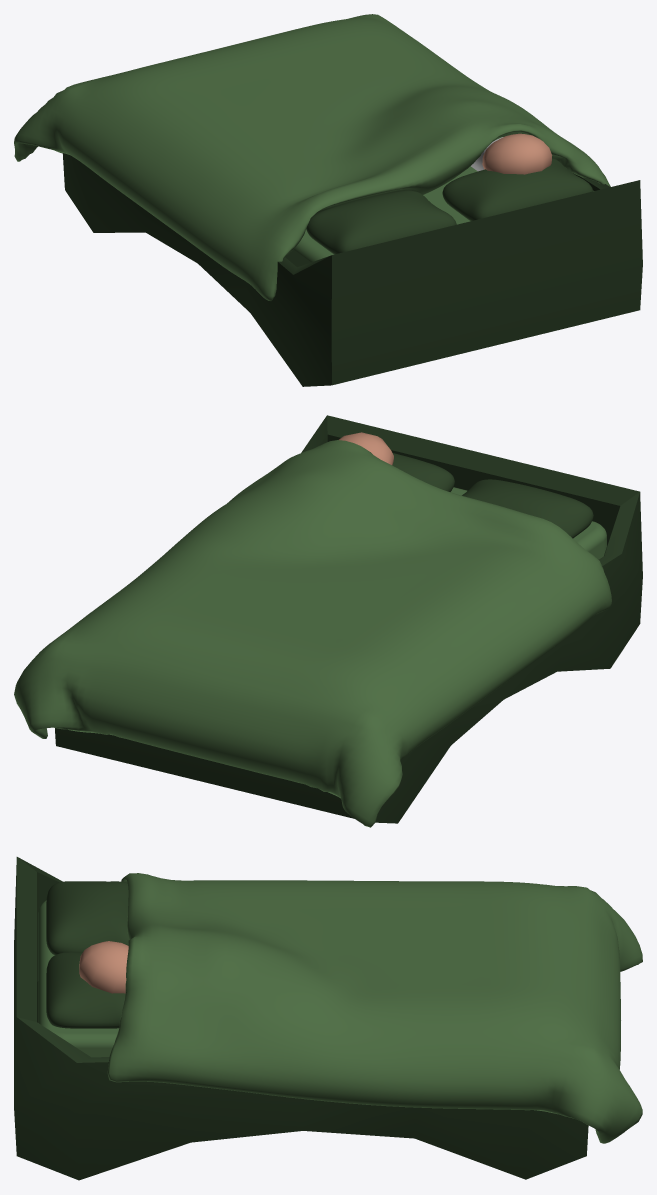
File: KidInBed.fbx
3 views of the same model, one above another, from view 1: azimuth 30°, elevation 25°; view 2: azimuth 150°, elevation 25°; view 3: azimuth 270°, elevation 25° (orthographic). The views are drawn at different scales.
Visible parts, largest first — view 1: pCube5; view 2: pCube5; view 3: pCube5.
Part boxes in pixels (box(x1,y1,x2,y2)): pCube5: box(14, 14, 642, 386); pCube5: box(14, 415, 642, 827); pCube5: box(14, 857, 642, 1180).
Bounding box in the file's own units: 43.19 × 19.98 × 57.35.
